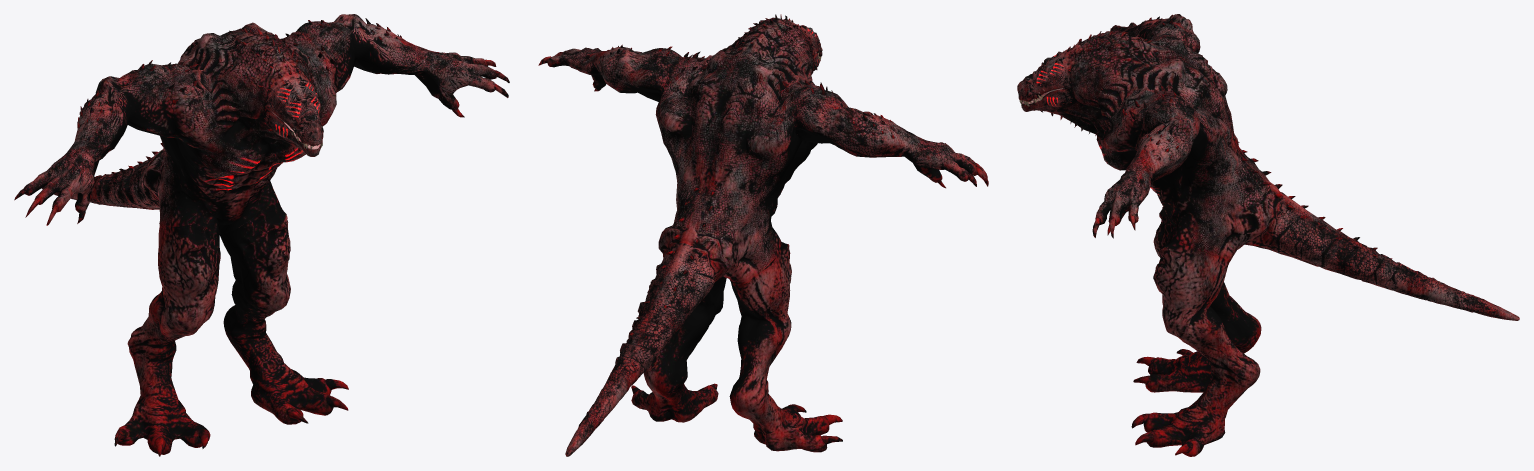
Rendered from bruto.glb.
3 views of the same model, side by side, from view 1: azimuth 30°, elevation 25°; view 2: azimuth 150°, elevation 25°; view 3: azimuth 270°, elevation 25° (orthographic). The views are drawn at different scales.
Visible parts, largest first — view 1: creature.glb; view 2: creature.glb; view 3: creature.glb.
Part boxes in pixels (x1=…): creature.glb: x1=14, y1=14, x2=509, y2=456; creature.glb: x1=538, y1=14, x2=988, y2=456; creature.glb: x1=1017, y1=14, x2=1519, y2=456.
Size of the model in its own units: 2.73 by 2.26 by 2.7.
Materials: 9 (9 with a texture image).
